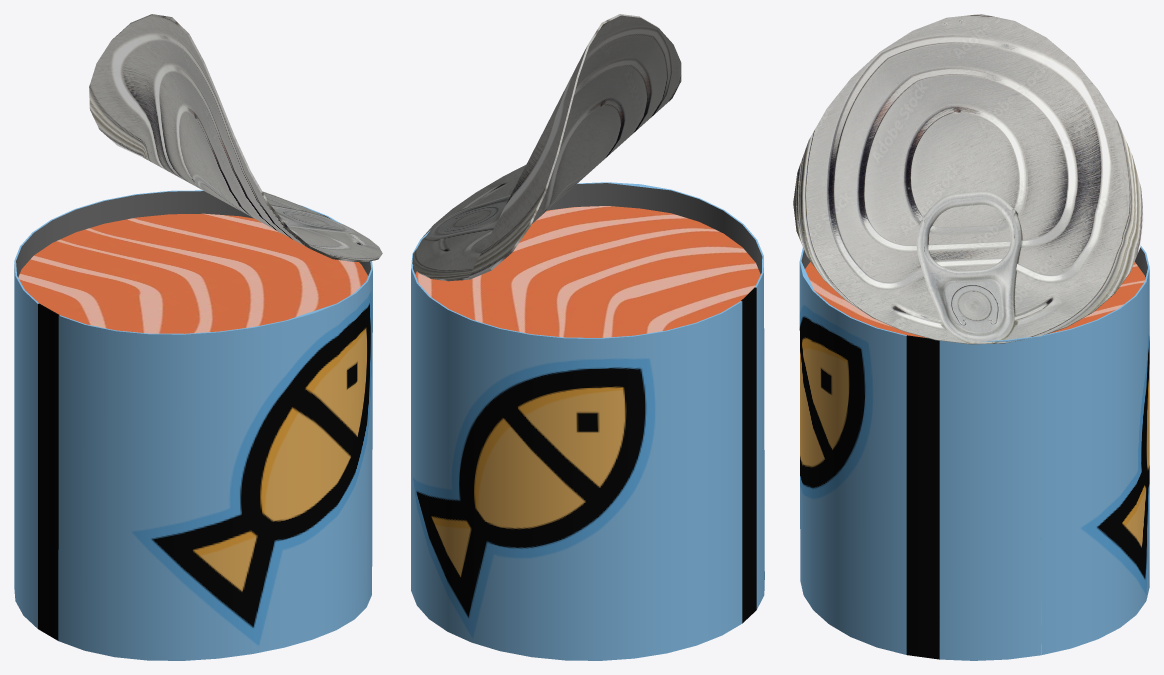
The model's file is lata de atuncito.fbx.
3 renders of one model, left to right at view 1: azimuth 30°, elevation 25°; view 2: azimuth 150°, elevation 25°; view 3: azimuth 270°, elevation 25°, orthographic.
Parts seen in each view (by area): view 1: Cilindro; view 2: Cilindro; view 3: Cilindro.
Boxes of the visible parts, box(x1,y1,x2,y2) form: Cilindro: box(14, 14, 382, 660); Cilindro: box(411, 14, 764, 660); Cilindro: box(793, 14, 1149, 660).
Bounding box in the file's own units: 202 × 354 × 203.
